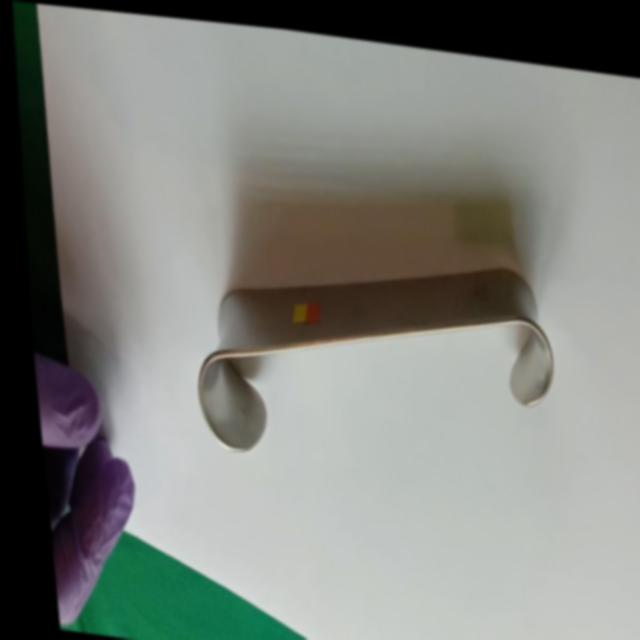CheekRetractor: (169, 214, 562, 495)
